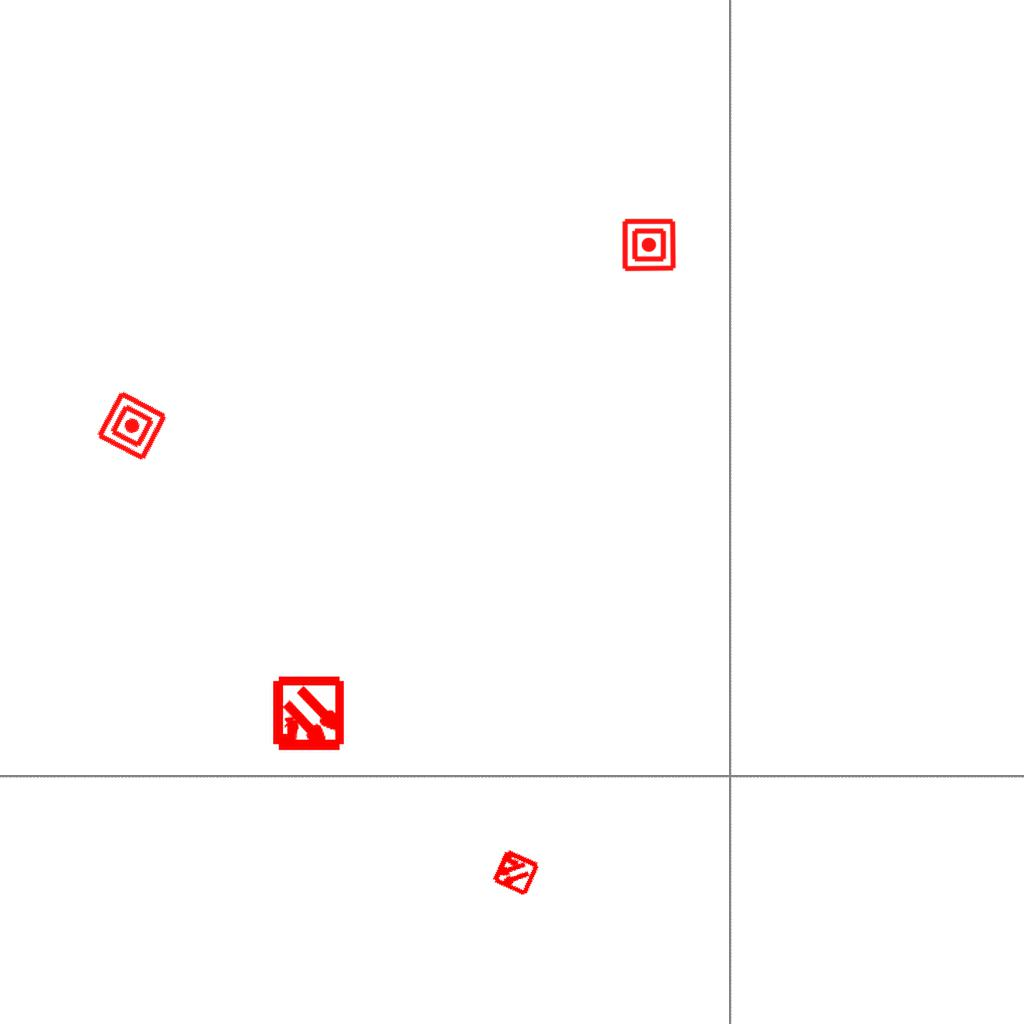NAM-Nichtautomatischer_Melder: (94, 388, 170, 464), (621, 217, 677, 273)
OT_Multisensormelder_(Kombination_RMO_WMD): (252, 659, 365, 772), (478, 835, 552, 909)
